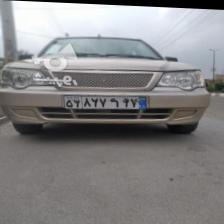plate: (64, 91, 149, 109)
